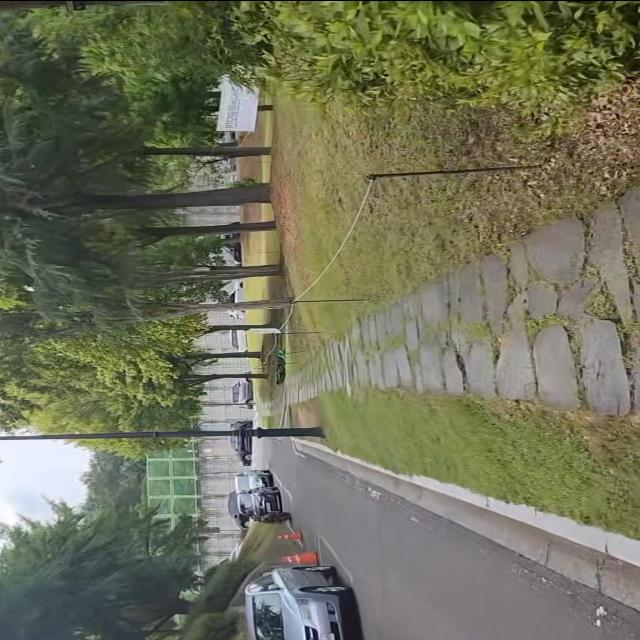obstacle: (238, 558, 387, 640), (0, 425, 322, 442), (230, 464, 301, 524)
road: (259, 432, 640, 640)
sidewalk: (272, 167, 640, 413)
